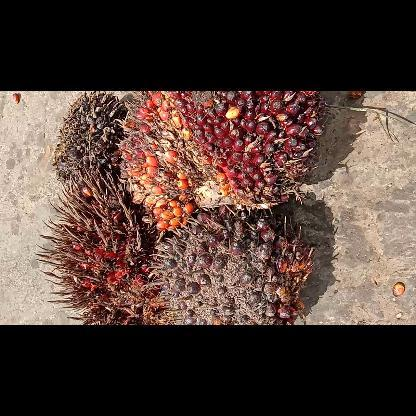Kurang masak: (147, 204, 315, 324)
TBS abnormal: (53, 91, 129, 190)
TBS masak: (120, 91, 322, 231)
Terlalu masak: (34, 166, 176, 324)
